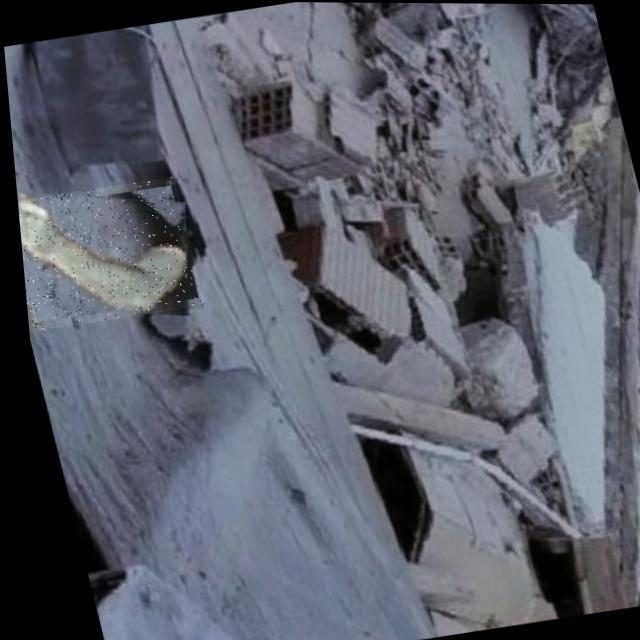Person in Rubble: (12, 175, 200, 332)
